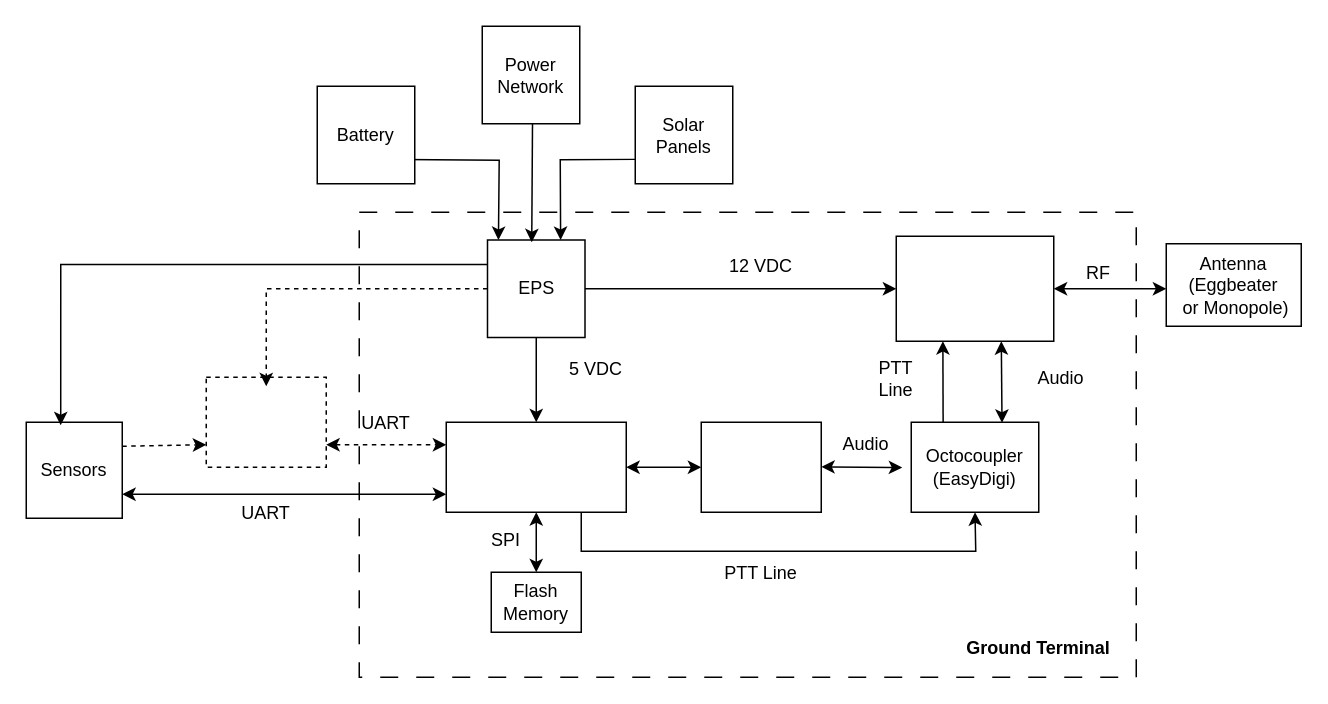
Some shapes in this 1328 by 704 pixel diagram are drawn without their labels. The centre of each missing label's shape, as x and y in pixels:
"MCU (Raspberry Pi)" belongs at point (535, 466).
"Sensors Interface (Optional)" belongs at point (265, 421).
"Sound Card Interface (RPi Hat)" belongs at point (760, 466).
"Transceiver (Yaesu FTM-100 or FTM 300)" belongs at point (974, 288).
